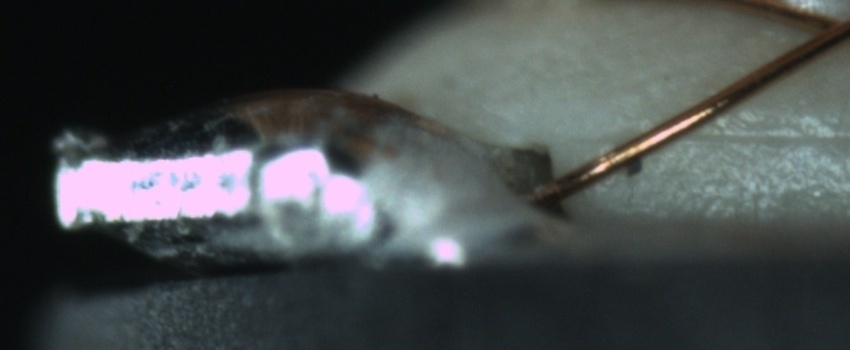CL: (798, 3, 849, 57)
DL: (609, 105, 846, 168)
